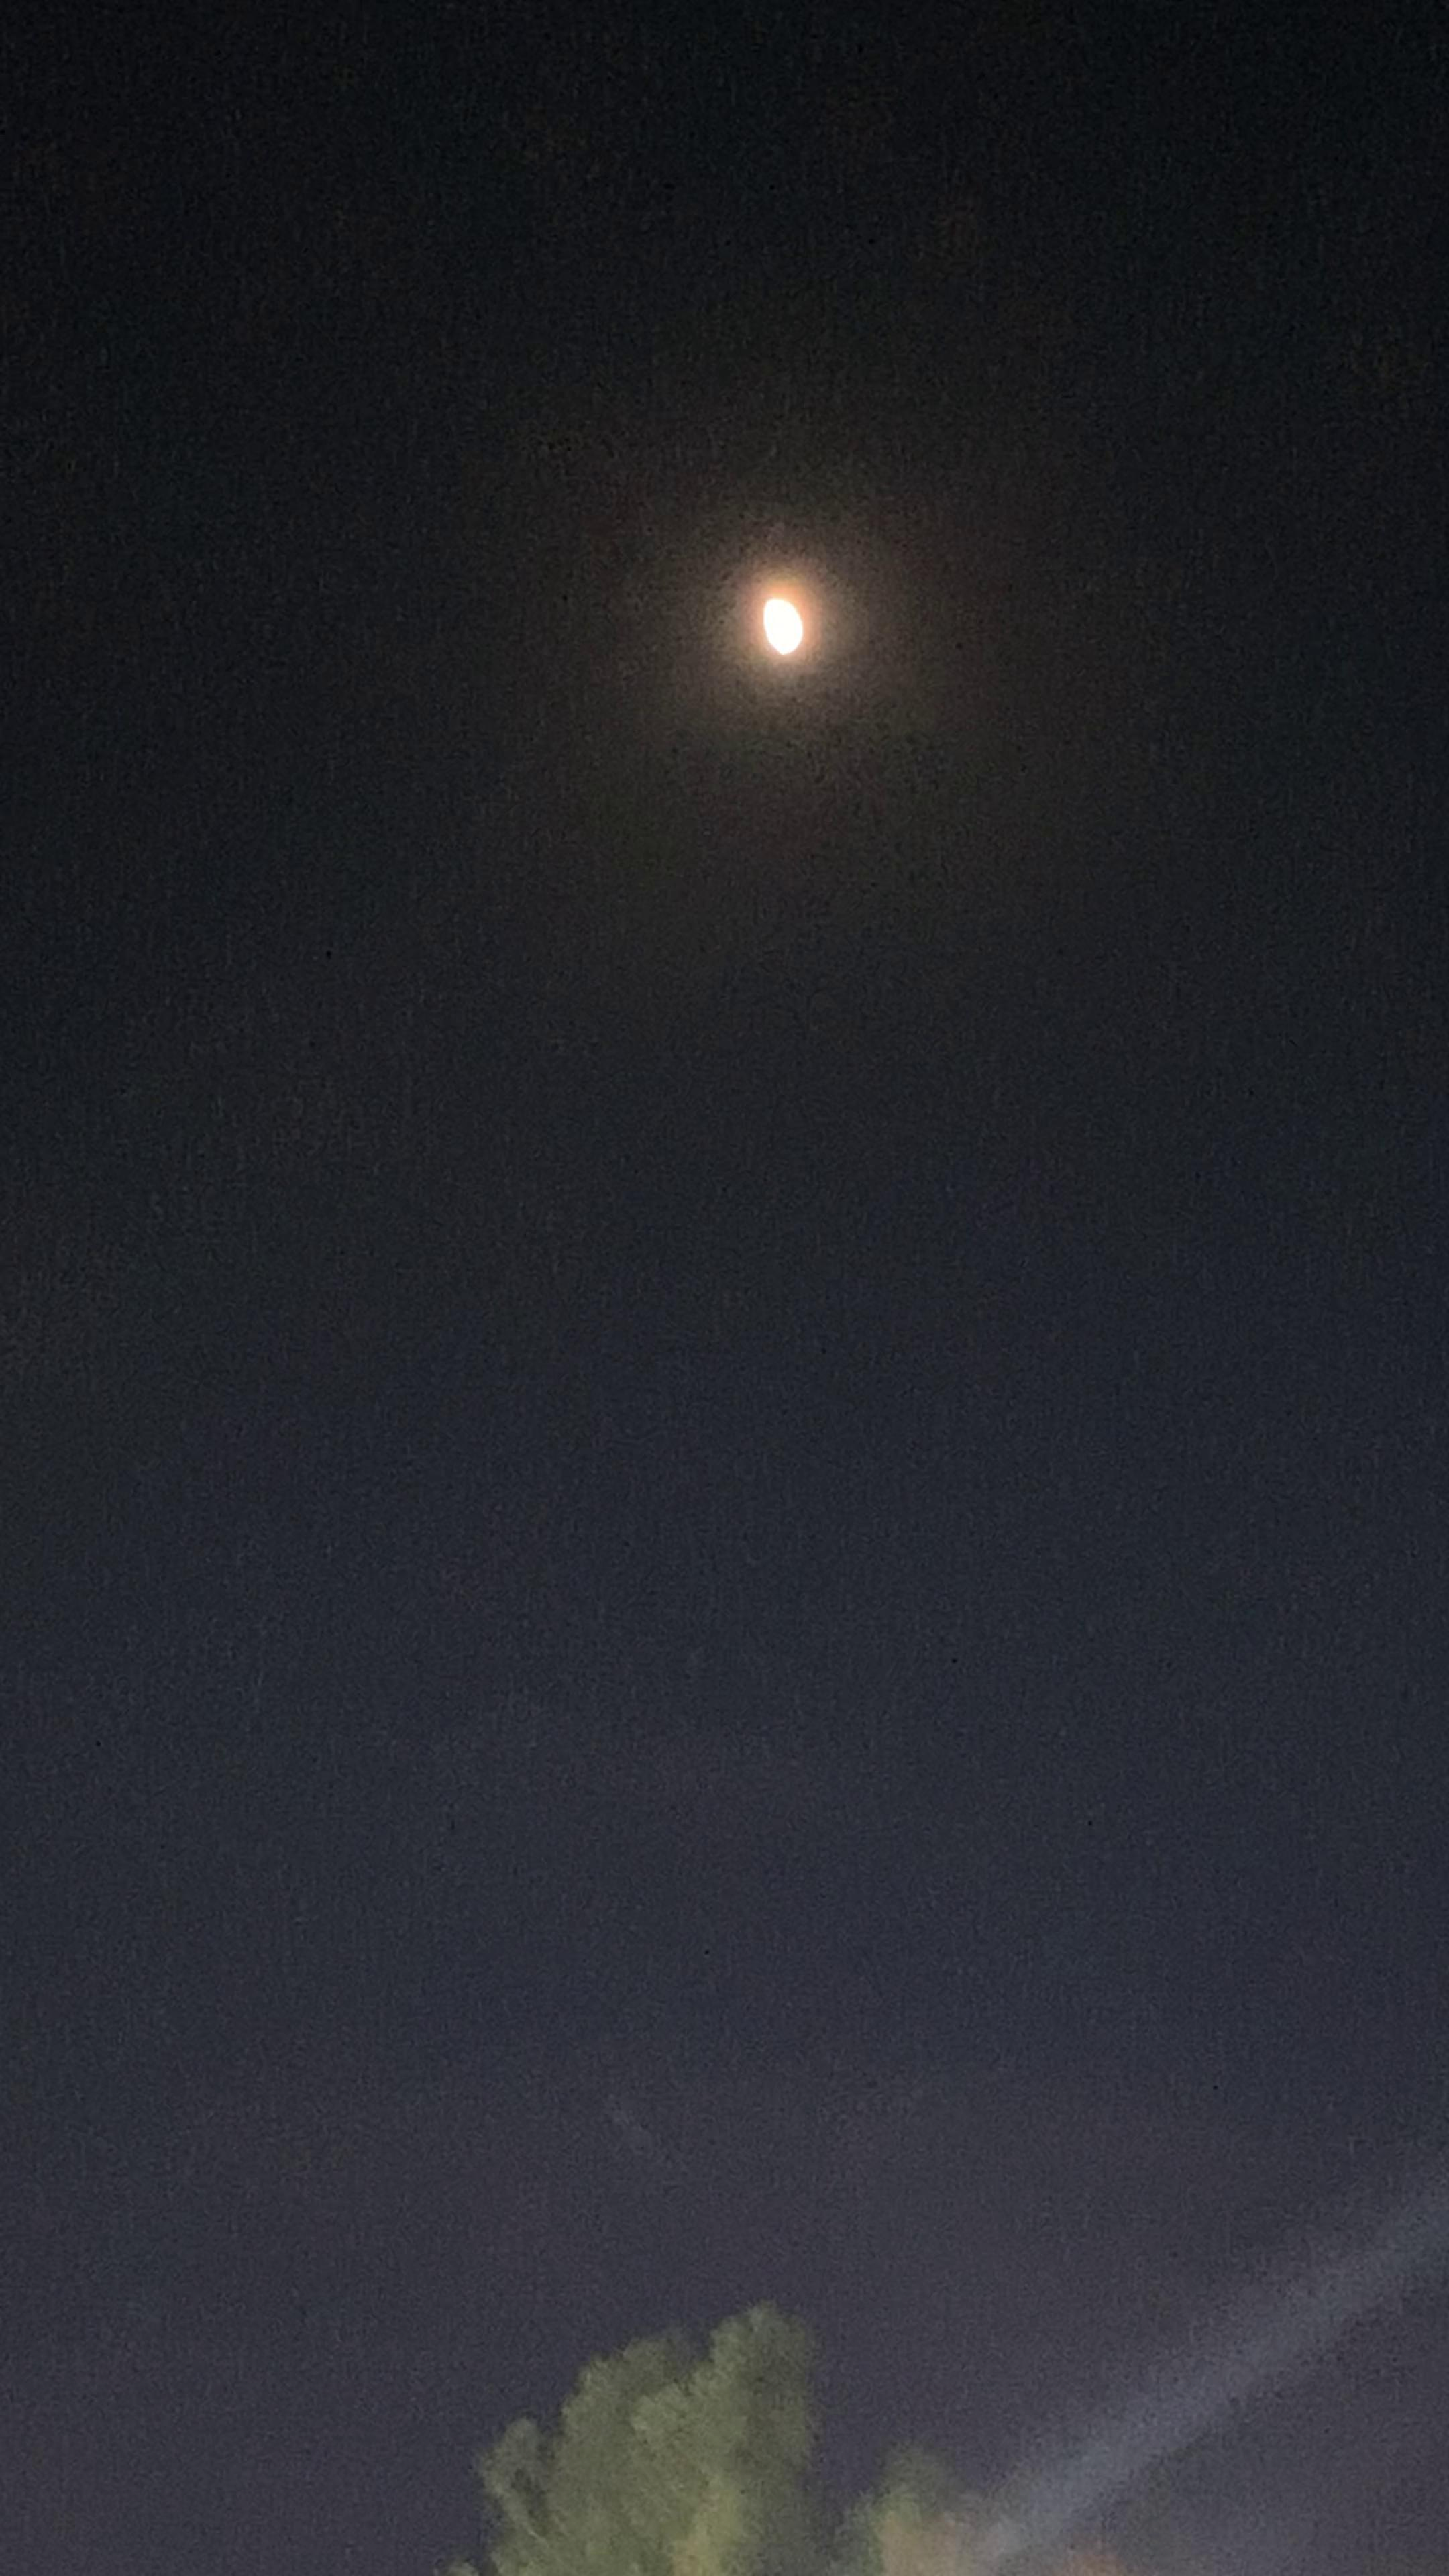moon: (702, 600, 862, 747)
